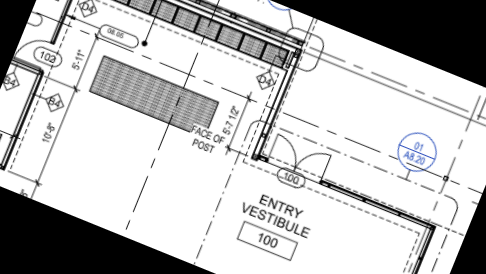door: (13, 29, 57, 73)
double door: (265, 130, 333, 183)
